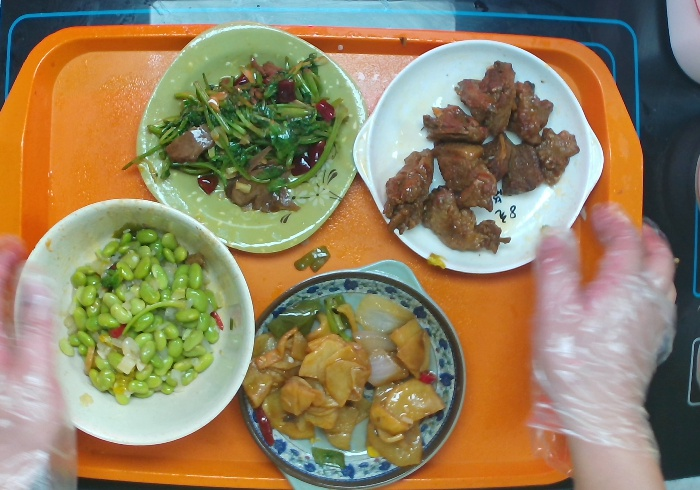NLDX-Bai_Se_Shuang_Er_Die: (349, 29, 605, 274)
NLDX-Bai_Se_Yuan_Wan: (5, 196, 269, 446)
NLDX-Lv_Hua_Fang_Die: (131, 22, 373, 260)
NLDX-Qing_Hua_Shuang_Er_Die: (242, 256, 463, 490)
